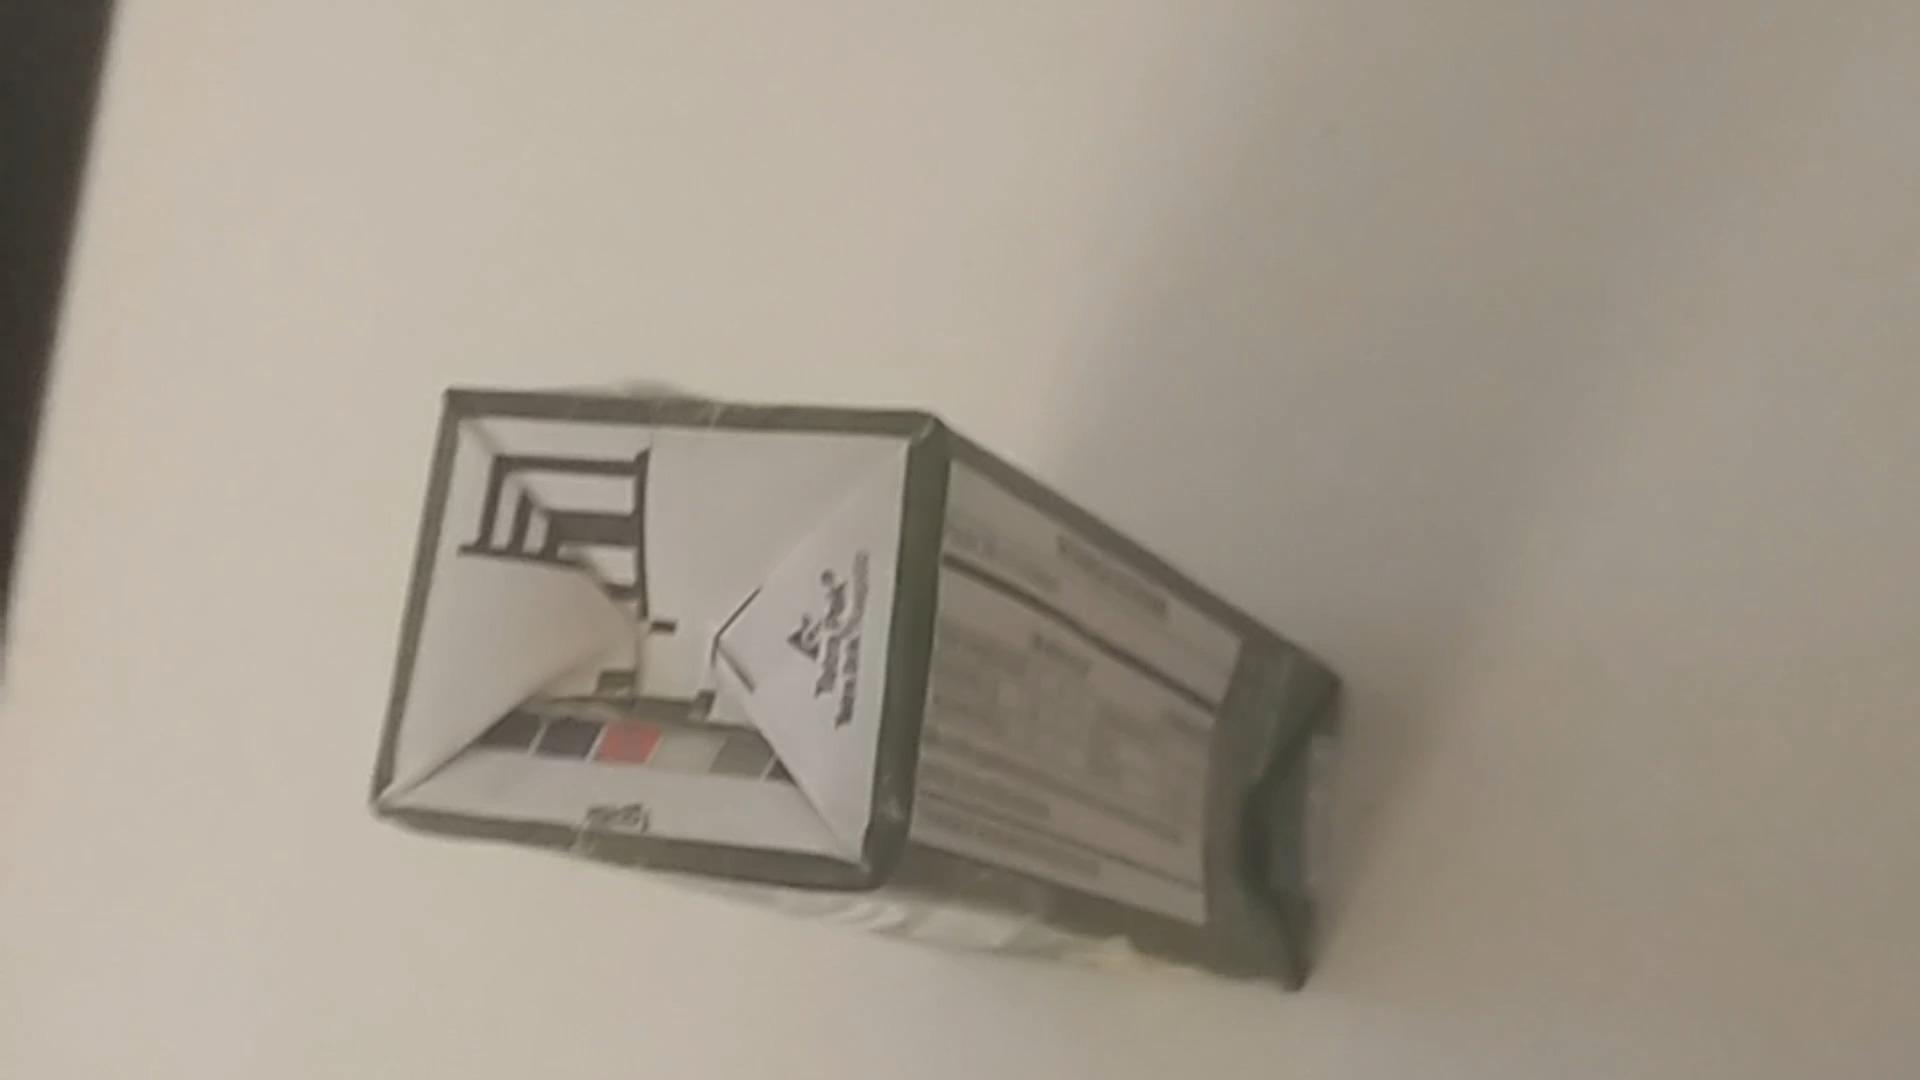coco: (371, 375, 1340, 1002)
